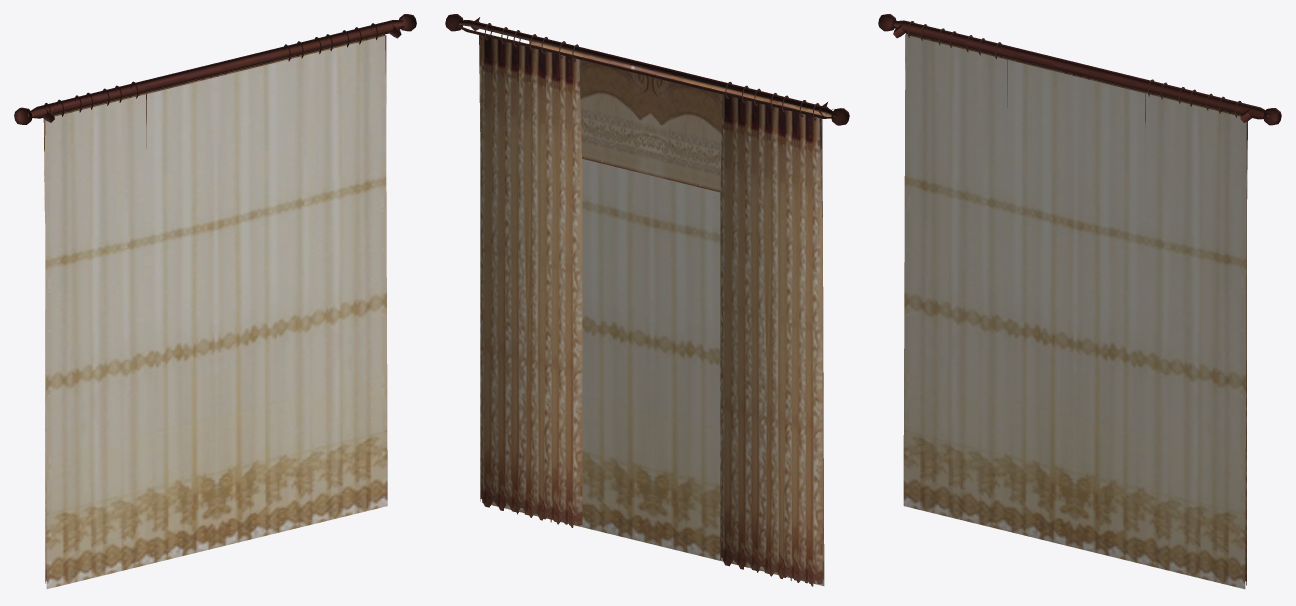
Rendered from furni_0200339.FBX.
3 views of the same model, side by side, from view 1: azimuth 30°, elevation 25°; view 2: azimuth 150°, elevation 25°; view 3: azimuth 330°, elevation 25° (orthographic).
Parts seen in each view (by area): view 1: furni_0200339; view 2: furni_0200339; view 3: furni_0200339.
Part boxes in pixels (x1,y1,x2,y2): furni_0200339: (14,14,416,588); furni_0200339: (445,14,849,586); furni_0200339: (878,14,1281,589).
Bounding box in the file's own units: 189 × 219 × 11.26.
Materials: 2 (2 with a texture image).
